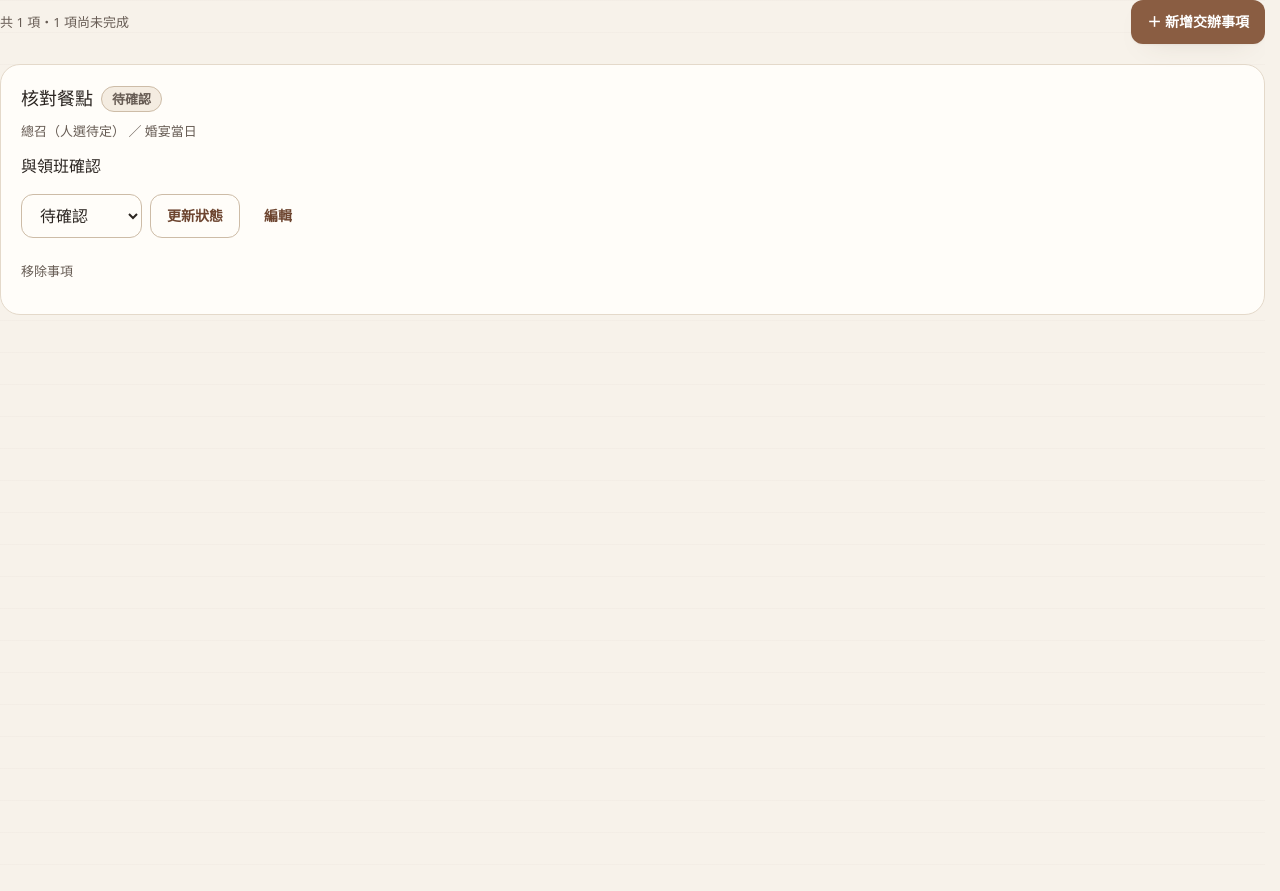
handoff board › creates an unassigned item and refreshes only after success
Click the button "＋ 新增交辦事項" at (1198, 22), box [1131,0,1265,44]
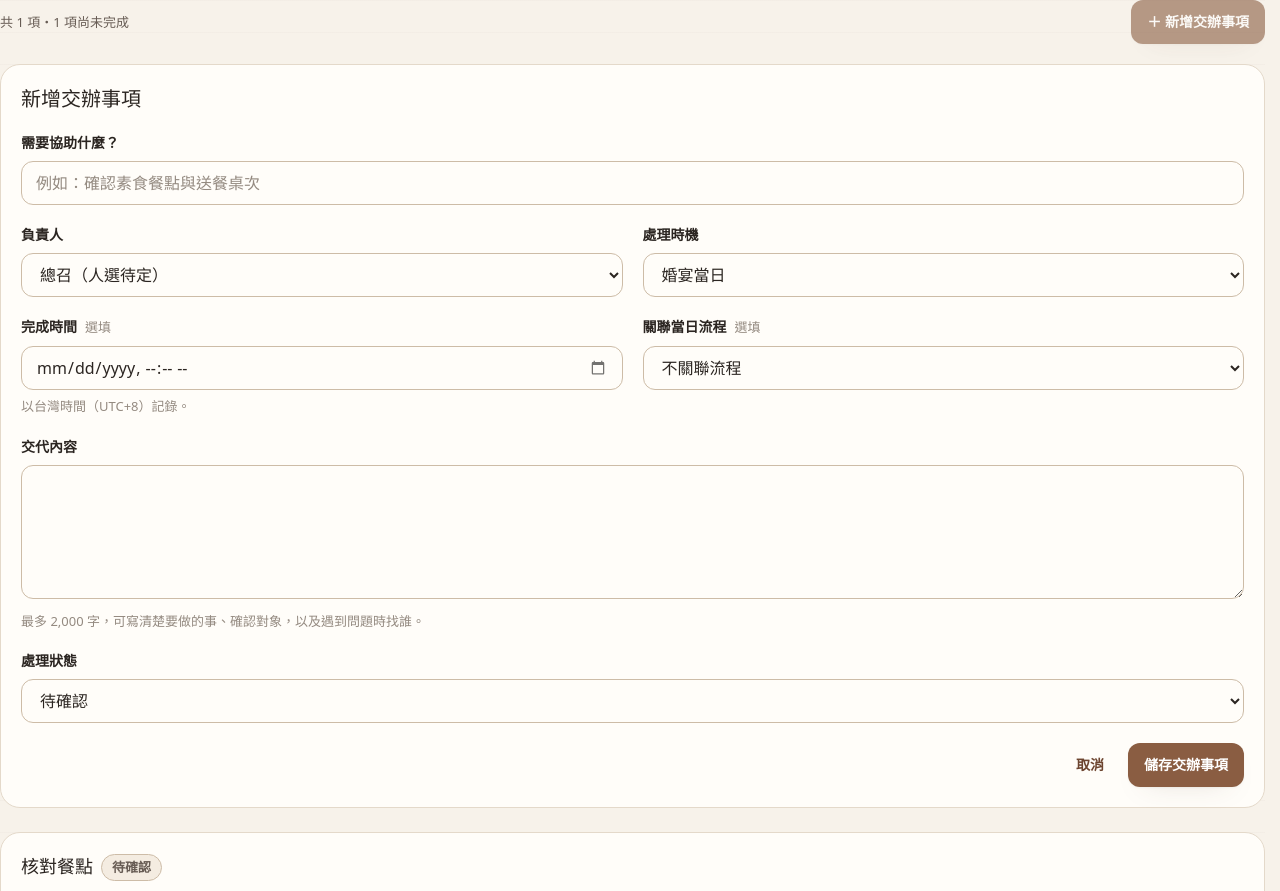
Type "安排喜餅" into the field labelled "需要協助什麼？" at (632, 183), box [21,161,1244,205]
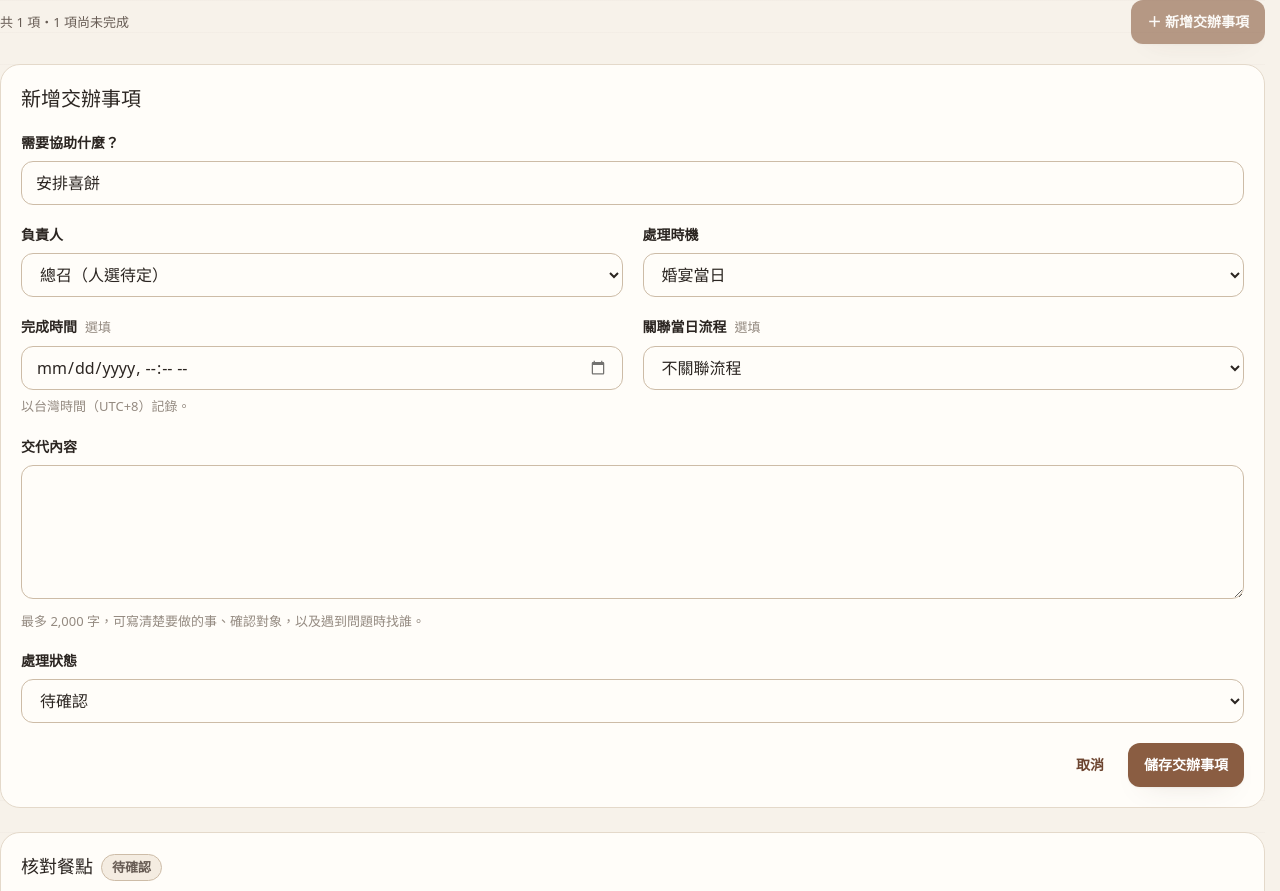
Type "核對名單" into the text box labelled "交代內容" at (632, 532), box [21,465,1244,599]
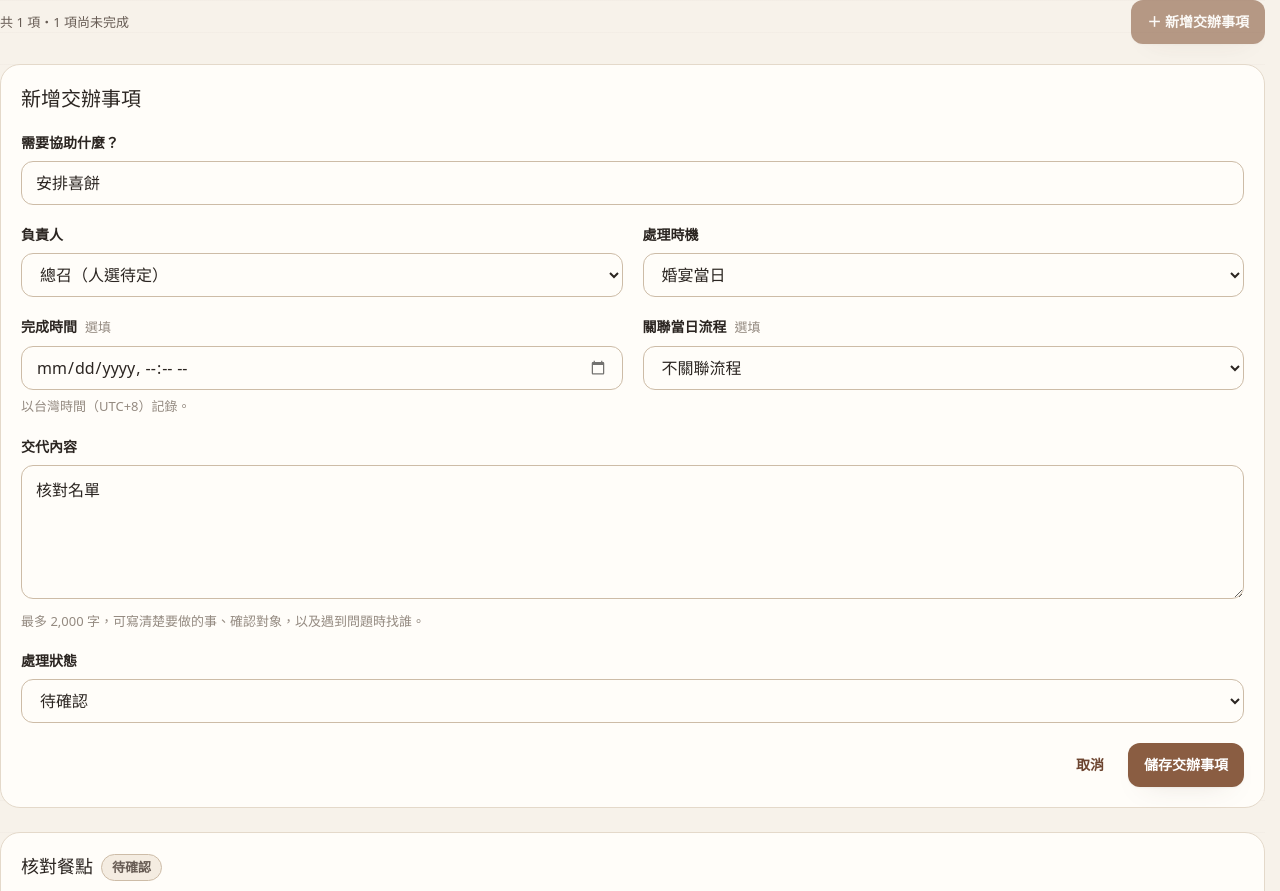
Click the button "儲存交辦事項" at (1186, 765), box [1128,743,1244,787]
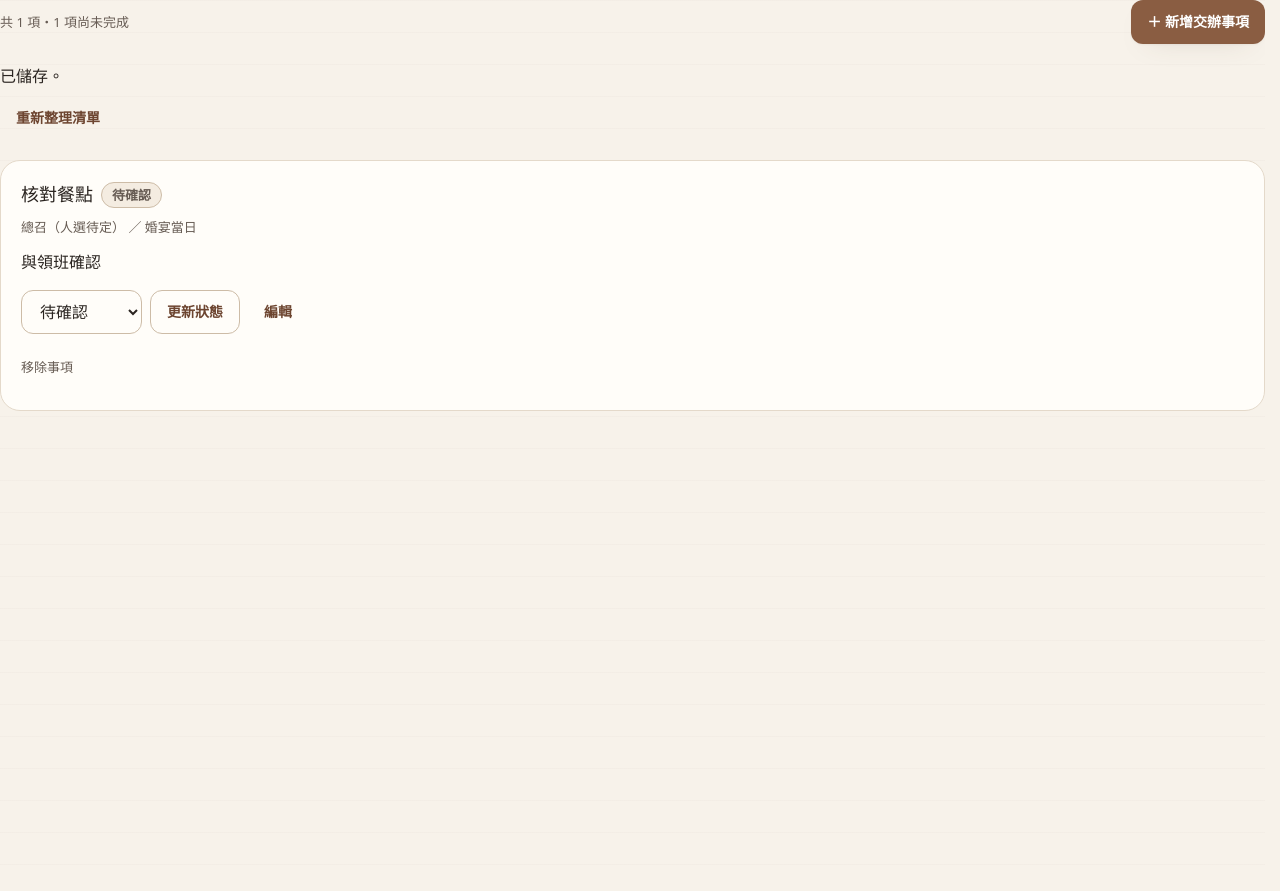
expect the label labelled "需要協助什麼？" is gone: met
